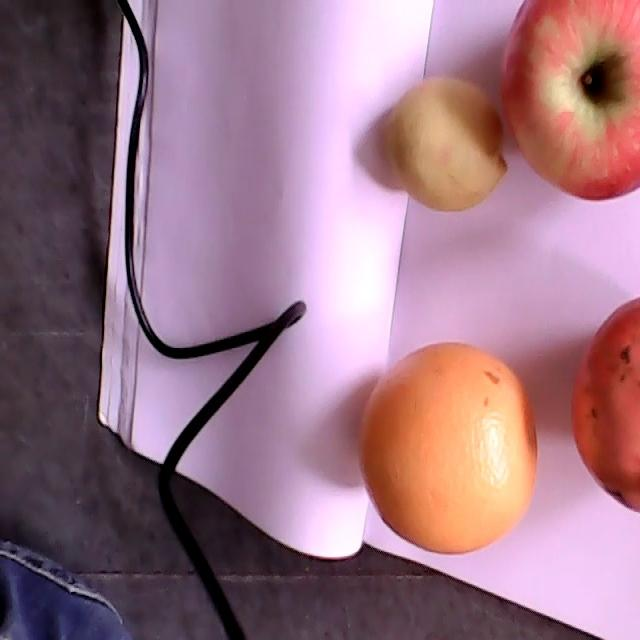apple: (502, 0, 639, 201)
lemon: (379, 76, 508, 211)
orange: (358, 343, 539, 554)
pomegranate: (571, 297, 639, 514)
